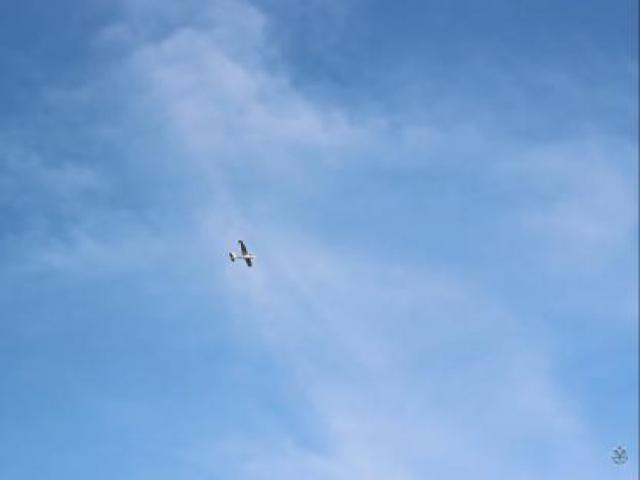uav: (223, 236, 257, 272)
